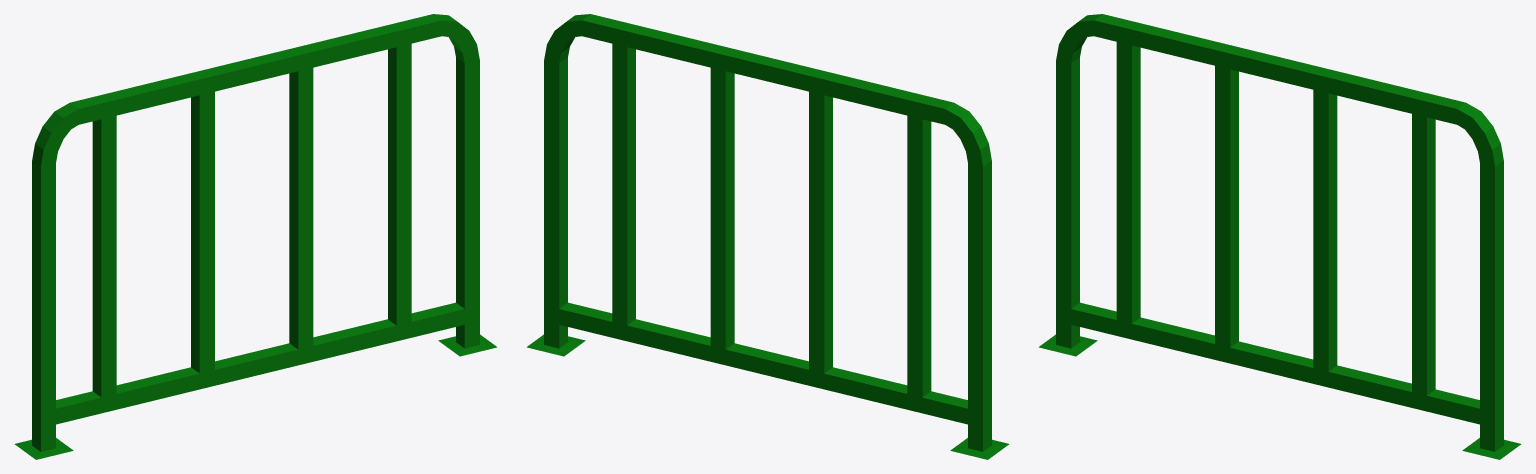
The model's file is GreemFence.fbx.
3 views of the same model, side by side, from view 1: azimuth 30°, elevation 25°; view 2: azimuth 150°, elevation 25°; view 3: azimuth 330°, elevation 25° (orthographic).
Parts seen in each view (by area): view 1: Fence; view 2: Fence; view 3: Fence.
Part boxes in pixels (left/top/right/bottom): Fence: left=14, top=14, right=496, bottom=459; Fence: left=527, top=14, right=1009, bottom=459; Fence: left=1039, top=14, right=1521, bottom=459.
Bounding box in the file's own units: 152 × 105 × 12.5.
